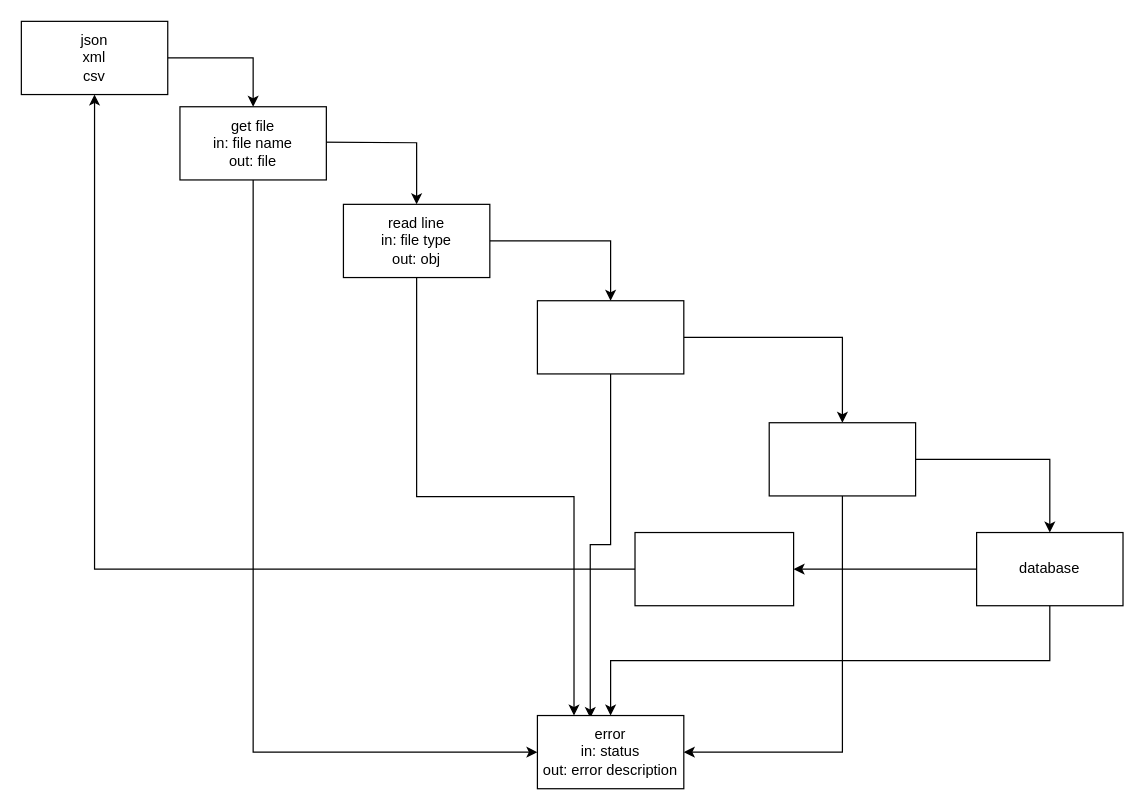
The diagram is 1144 pixels wide and 810 high, and some of its shapes have lost their labels. Each missing label, with the centre of its shape:
confirmation in: status out: pointer to next obj: point 714,568
Stringify\convert in: obj out: String x: point 610,337
write in: String x out: write to DB: point 842,459
